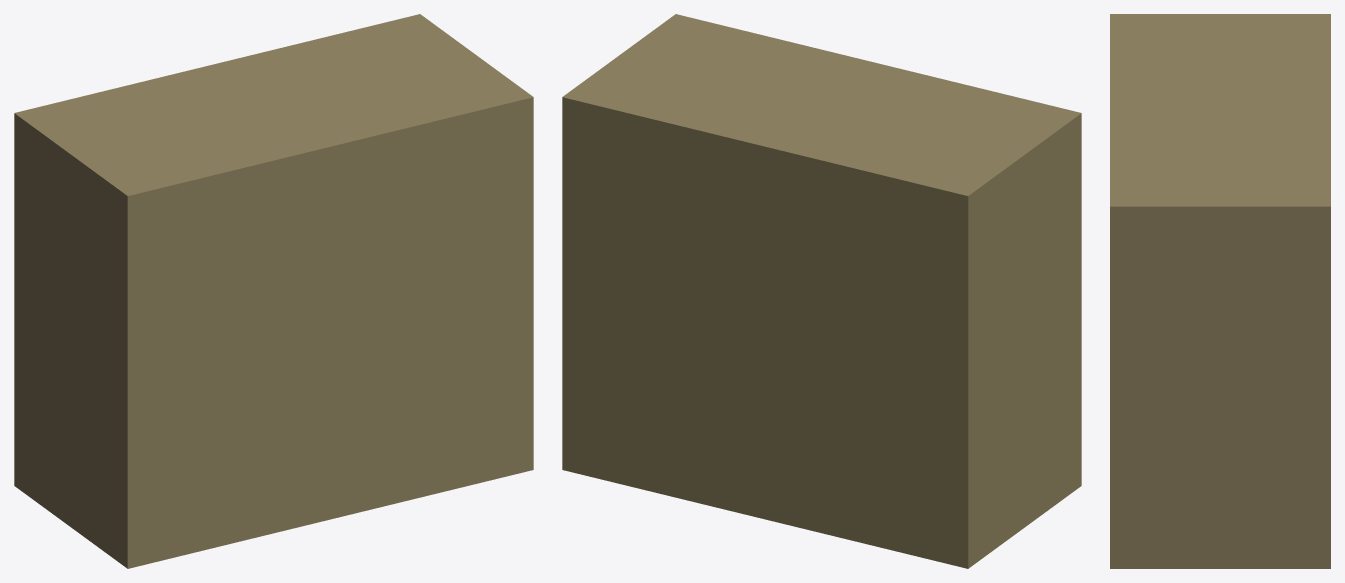
The model's file is Muro Inca allichina3.glb.
The picture shows the model from 3 angles, left to right: view 1: azimuth 30°, elevation 25°; view 2: azimuth 150°, elevation 25°; view 3: azimuth 270°, elevation 25°; orthographic projection. The views are drawn at different scales.
Visible parts, largest first — view 1: Cube; view 2: Cube; view 3: Cube.
Part boxes in pixels (x1,y1,x2,y2): Cube: (14, 14, 533, 568); Cube: (562, 14, 1081, 568); Cube: (1110, 14, 1330, 568).
Bounding box in the file's own units: 0.0255 × 0.0224 × 0.0124.
